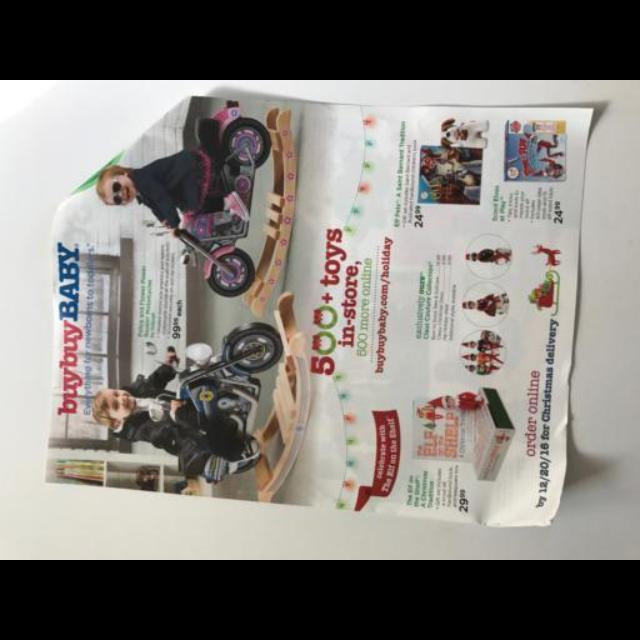papel: (50, 93, 592, 527)
